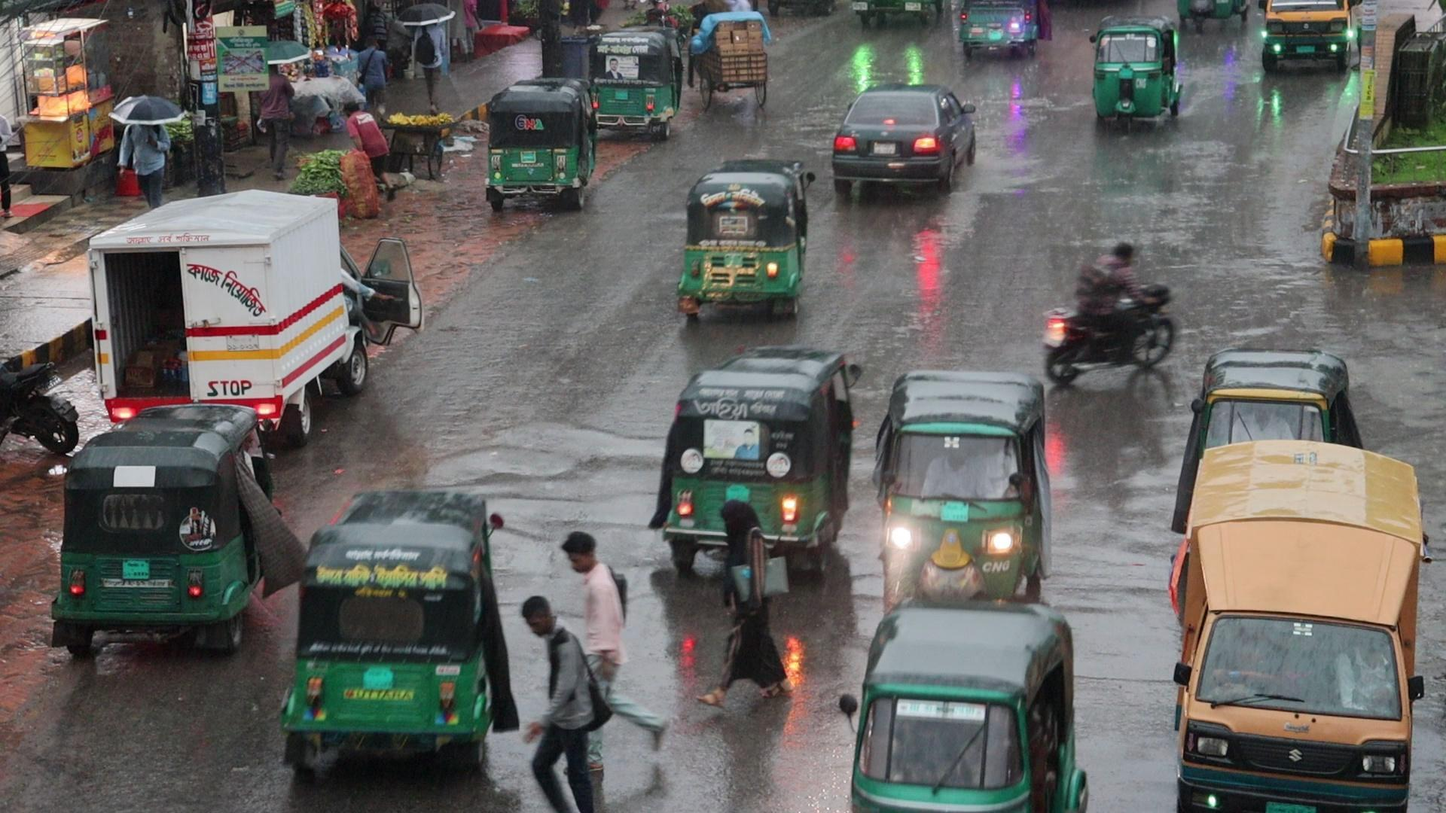Bike: (1045, 241, 1174, 380)
Car: (831, 82, 978, 192)
Truck: (1178, 438, 1422, 810)
